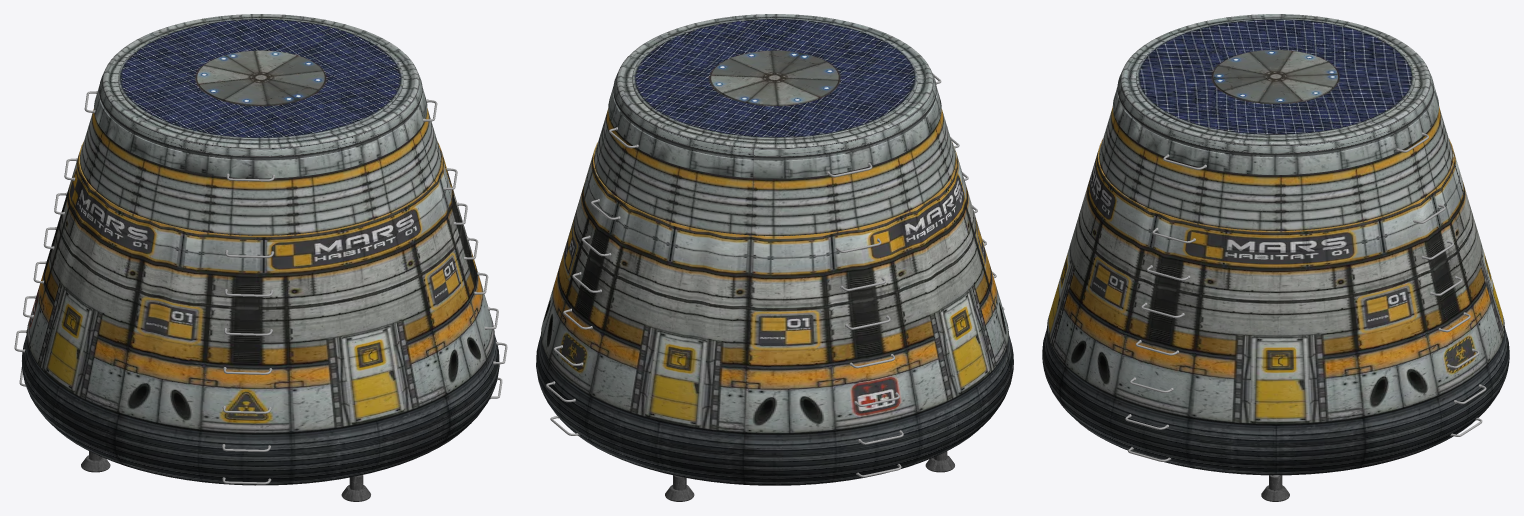
Rendered from lander-pod.glb.
3 views of the same model, side by side, from view 1: azimuth 30°, elevation 25°; view 2: azimuth 150°, elevation 25°; view 3: azimuth 270°, elevation 25° (orthographic). The views are drawn at different scales.
Visible parts, largest first — view 1: Pod_Habitat_Pod_Texture_0, Ladder_Step_001_lambert1_0, Leg_04_Leg_Texture_0; view 2: Pod_Habitat_Pod_Texture_0, Ladder_Step_001_lambert1_0, Leg_04_Leg_Texture_0; view 3: Pod_Habitat_Pod_Texture_0, Ladder_Step_001_lambert1_0, Leg_04_Leg_Texture_0.
Boxes of the visible parts, bbox=[...] form: Pod_Habitat_Pod_Texture_0: bbox=[22, 14, 499, 485]; Ladder_Step_001_lambert1_0: bbox=[14, 91, 507, 484]; Leg_04_Leg_Texture_0: bbox=[81, 451, 370, 501]; Pod_Habitat_Pod_Texture_0: bbox=[536, 14, 1013, 485]; Ladder_Step_001_lambert1_0: bbox=[546, 73, 1004, 477]; Leg_04_Leg_Texture_0: bbox=[665, 451, 954, 501]; Pod_Habitat_Pod_Texture_0: bbox=[1042, 14, 1509, 475]; Ladder_Step_001_lambert1_0: bbox=[1125, 132, 1486, 461]; Leg_04_Leg_Texture_0: bbox=[1261, 475, 1289, 501].
Bounding box in the file's own units: 12.52 × 10.08 × 12.52.
3 materials, 2 textured.
